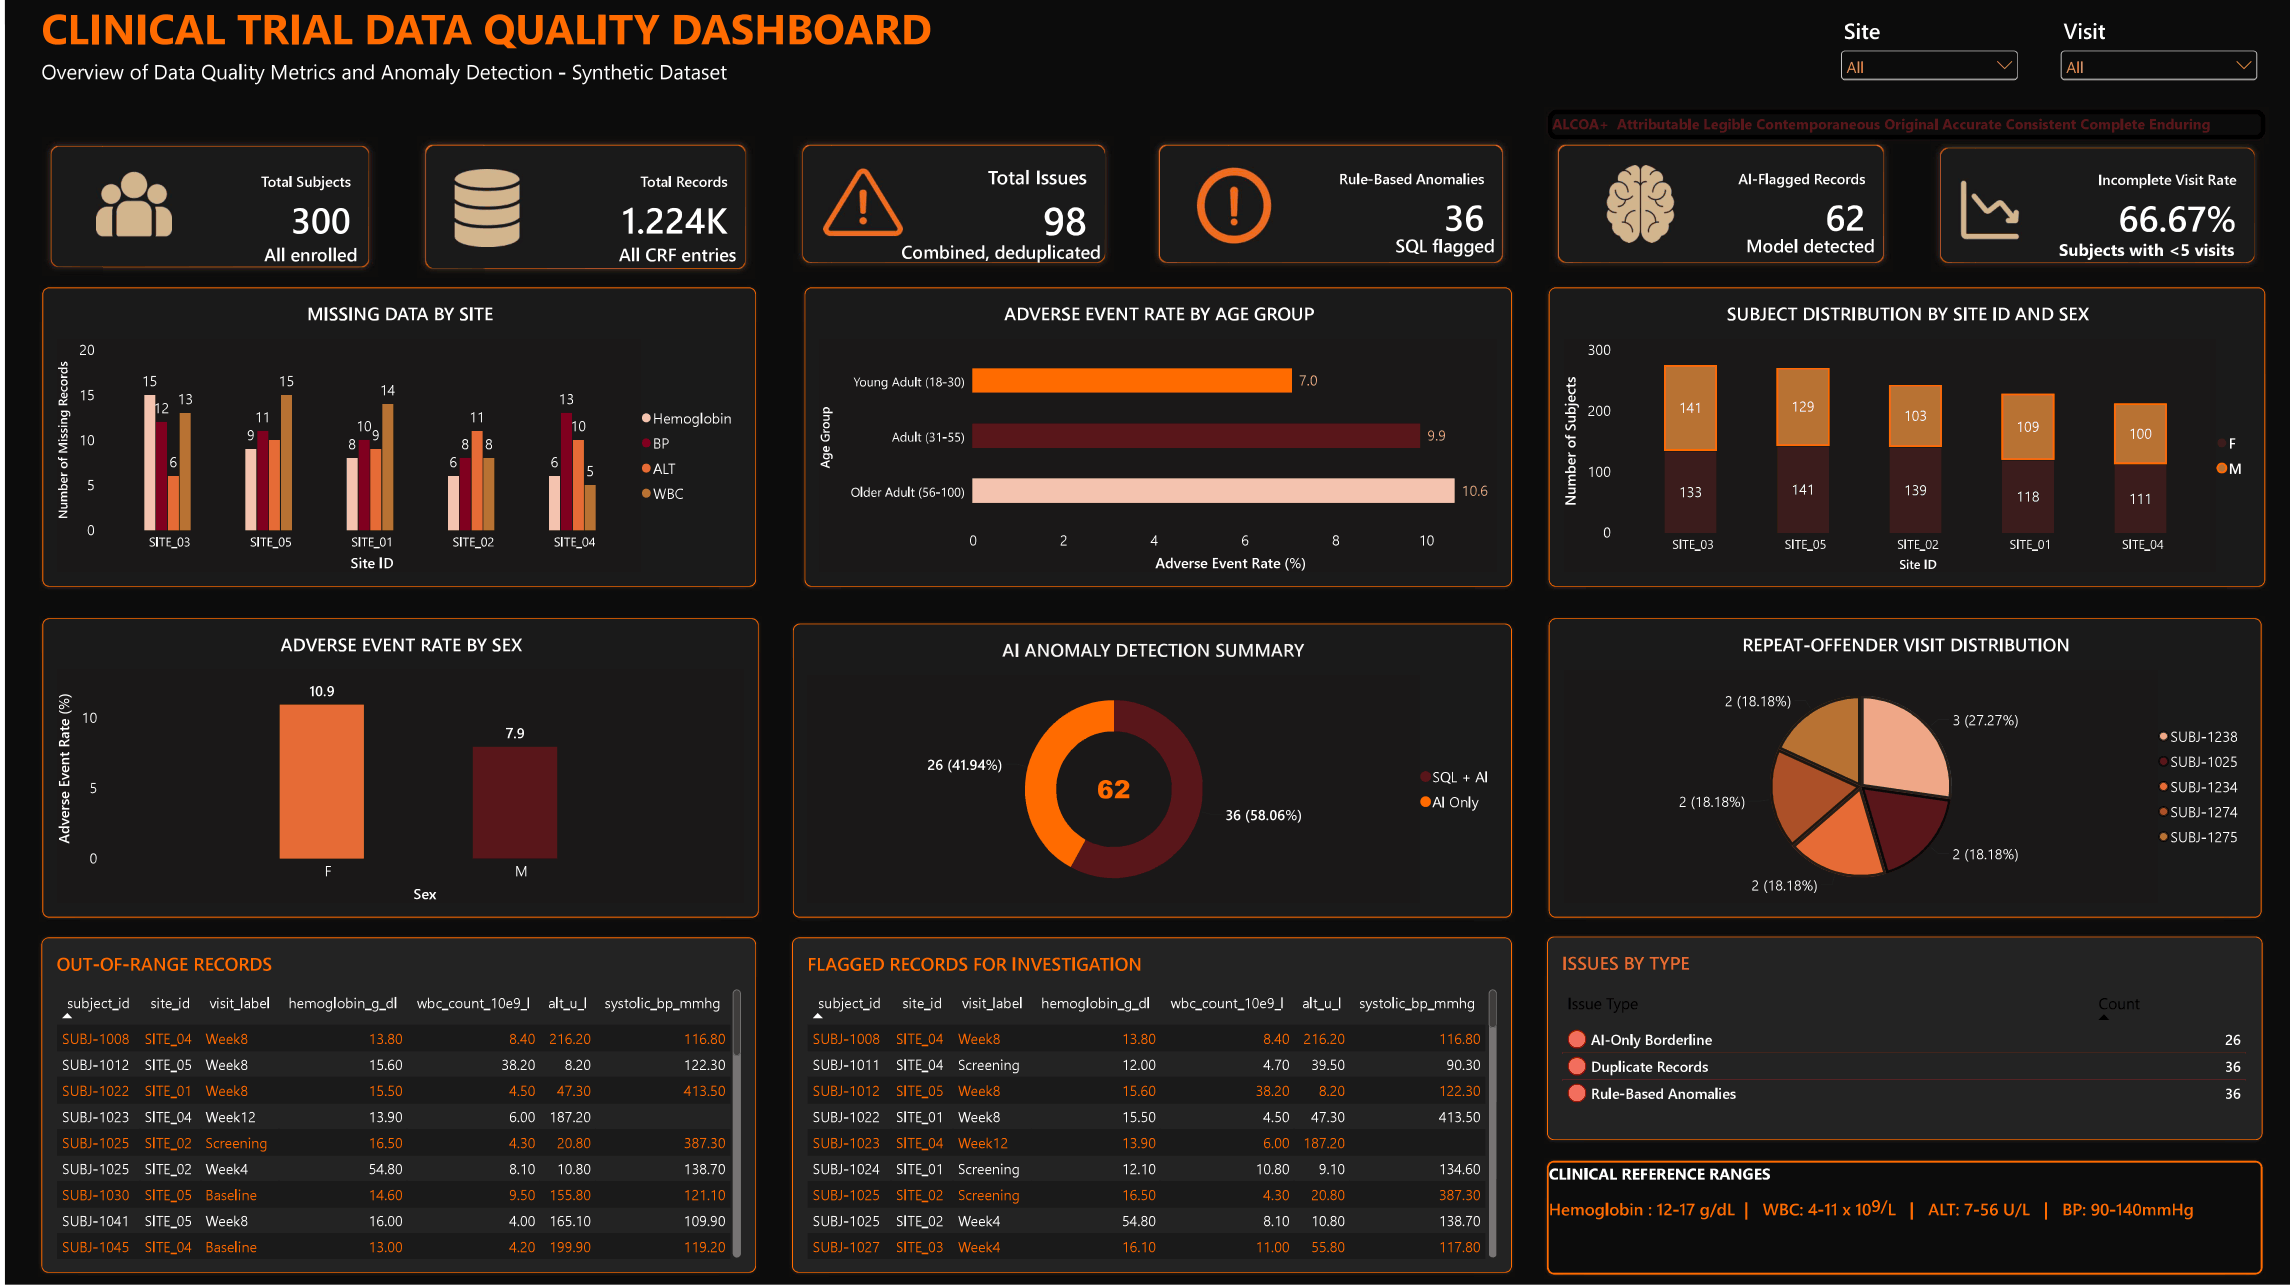

The dashboard page shown, as its layout file describes it:
{"tool":"powerbi","page":{"name":"Page 5","canvas":[2560,1440],"ordinal":5},"visuals":[{"type":"cardVisual","title":"Total S","fields":{"Data":["Count(dashboard_data (2).subject_id)"]},"box":[40,160,376.7,156.7],"z":0},{"type":"textbox","title":"CLINICAL TRIAL DATA QUALITY DASHBOARD","box":[40,6.7,1663.3,96.7],"z":1000},{"type":"image","box":[57.3,194.1,171.8,82.7],"z":2000},{"type":"textbox","box":[56,396,359,188],"z":3000},{"type":"textbox","box":[56,630,359,188],"z":4000},{"type":"cardVisual","title":"Total S","fields":{"Data":["dashboard_data (2).Total Issues"]},"box":[878,159.1,359.5,152.7],"z":5000},{"type":"cardVisual","title":"Total S","fields":{"Data":["CountNonNull(dashboard_data (2).visit_label)"]},"box":[458.1,159.1,378.6,159.1],"z":6000},{"type":"cardVisual","title":"Total S","fields":{"Data":["dashboard_data (2).SQL Flagged Count"]},"box":[1275.7,159.1,404,152.7],"z":7000},{"type":"cardVisual","title":"Total S","fields":{"Data":["dashboard_data (2).Model Flagged Count"]},"box":[1721,159.1,384.9,152.7],"z":8000},{"type":"cardVisual","title":"Total S","fields":{"Data":["dashboard_data (2).Droupout Rate"]},"box":[2147.3,162.2,372.2,149.5],"z":9000},{"type":"image","box":[456.7,196.7,159.1,85.9],"z":10000},{"type":"image","box":[2120,206.7,184.5,70],"z":11000},{"type":"image","box":[890,190,133.3,86.7],"z":12000},{"type":"image","box":[1753.3,193.3,141,84.6],"z":13000},{"type":"clusteredColumnChart","title":"MISSING DATA BY SITE","fields":{"Category":["dashboard_data (2).site_id"],"Y":["dashboard_data (2).Missing Hemoglobin","dashboard_data (2).missing BP","dashboard_data (2).Missing ALT","dashboard_data (2).Missing WBC"]},"box":[41.4,327.7,795.3,334],"z":14000},{"type":"donutChart","title":"AI ANOMALY DETECTION SUMMARY","fields":{"Category":["dashboard_data (2).Detection Type"],"Y":["CountNonNull(dashboard_data (2).Detection Type)"]},"box":[878,703.1,801.7,327.7],"z":15000},{"type":"columnChart","title":"SUBJECT DISTRIBUTION BY SITE ID AND SEX","fields":{"Category":["dashboard_data (2).site_id"],"Series":["dashboard_data (2).sex"],"Y":["CountNonNull(dashboard_data (2).subject_id)"]},"box":[1721,327.7,798.5,334],"z":16000},{"type":"tableEx","title":"OUT-OF-RANGE RECORDS","fields":{"Values":["dashboard_data (2).subject_id","dashboard_data (2).site_id","dashboard_data (2).visit_label","dashboard_data (2).hemoglobin_g_dl","dashboard_data (2).wbc_count_10e9_l","dashboard_data (2).alt_u_l","dashboard_data (2).systolic_bp_mmhg"]},"box":[40,1053.3,796.7,373.3],"z":17000},{"type":"clusteredColumnChart","title":"ADVERSE EVENT RATE BY SEX","fields":{"Category":["dashboard_data (2).sex"],"Y":["dashboard_data (2).Adverse Event Rate"]},"box":[41.4,696.7,798.5,334],"z":18000},{"type":"pieChart","title":"REPEAT-OFFENDER VISIT DISTRIBUTION","fields":{"Category":["dashboard_data (2).subject_id"],"Y":["dashboard_data (2).Flagged Visit Count"]},"box":[1721,696.7,795.3,334],"z":19000},{"type":"clusteredBarChart","title":"ADVERSE EVENT RATE BY AGE GROUP","fields":{"Category":["dashboard_data (2).Age Group"],"Y":["dashboard_data (2).Adverse Event Rate"]},"box":[890.7,327.7,788.9,334],"z":20000},{"type":"image","box":[1326.7,183.3,85.9,108.2],"z":21000},{"type":"slicer","fields":{"Values":["dashboard_data (2).site_id"]},"box":[2042.3,25.4,206.8,85.9],"z":22000},{"type":"slicer","fields":{"Values":["dashboard_data (2).visit_label"]},"box":[2287.3,25.4,229,95.4],"z":23000},{"type":"textbox","box":[1743,0,299,150],"z":24000},{"type":"textbox","title":"All enrolled","box":[264,276.8,152.7,22.3],"z":25000},{"type":"textbox","title":"All CRF entries","box":[684,276.8,152.7,25.4],"z":26000},{"type":"textbox","title":"Combined, deduplicated","box":[998.9,273.6,238.6,38.2],"z":27000},{"type":"textbox","title":"SQL flagged","box":[1550,266.7,130,33.3],"z":28000},{"type":"textbox","title":"Model detected","box":[1940.5,267.2,165.4,22.3],"z":29000},{"type":"tableEx","title":"ISSUES BY TYPE","fields":{"Values":["Issue Types.Issue Type","Issue Types.Issue Count"]},"box":[1719,1052.4,797.6,226.2],"z":30000},{"type":"textbox","title":"CLINICAL REFERENCE RANGES","box":[1719,1302.4,797.6,126.2],"z":31000},{"type":"textbox","box":[1720,130,800,33.3],"z":32000},{"type":"tableEx","title":"FLAGGED RECORDS FOR INVESTIGATION","fields":{"Values":["dashboard_data (2).subject_id","dashboard_data (2).site_id","dashboard_data (2).visit_label","dashboard_data (2).hemoglobin_g_dl","dashboard_data (2).wbc_count_10e9_l","dashboard_data (2).alt_u_l","dashboard_data (2).systolic_bp_mmhg"]},"box":[876.7,1053.3,803.3,373.3],"z":33000},{"type":"textbox","box":[2290,273.3,230,26.7],"z":34000}]}

Visuals, with their boxes in screenshot pixels (x1, y1, x2, y2), scaled from the page's 2560x1440 canvas onto the 2290x1288 screenshot:
"Total S" cardVisual: [36, 143, 373, 283]
"CLINICAL TRIAL DATA QUALITY DASHBOARD" textbox: [36, 6, 1524, 92]
image: [51, 174, 205, 248]
textbox: [50, 354, 371, 522]
textbox: [50, 564, 371, 732]
"Total S" cardVisual: [785, 142, 1107, 279]
"Total S" cardVisual: [410, 142, 748, 285]
"Total S" cardVisual: [1141, 142, 1503, 279]
"Total S" cardVisual: [1539, 142, 1884, 279]
"Total S" cardVisual: [1921, 145, 2254, 279]
image: [409, 176, 551, 253]
image: [1896, 185, 2061, 247]
image: [796, 170, 915, 247]
image: [1568, 173, 1695, 249]
"MISSING DATA BY SITE" clusteredColumnChart: [37, 293, 748, 592]
"AI ANOMALY DETECTION SUMMARY" donutChart: [785, 629, 1503, 922]
"SUBJECT DISTRIBUTION BY SITE ID AND SEX" columnChart: [1539, 293, 2254, 592]
"OUT-OF-RANGE RECORDS" tableEx: [36, 942, 748, 1276]
"ADVERSE EVENT RATE BY SEX" clusteredColumnChart: [37, 623, 751, 922]
"REPEAT-OFFENDER VISIT DISTRIBUTION" pieChart: [1539, 623, 2251, 922]
"ADVERSE EVENT RATE BY AGE GROUP" clusteredBarChart: [797, 293, 1502, 592]
image: [1187, 164, 1264, 261]
slicer - dashboard_data (2).site_id: [1827, 23, 2012, 100]
slicer - dashboard_data (2).visit_label: [2046, 23, 2251, 108]
textbox: [1559, 0, 1827, 134]
"All enrolled" textbox: [236, 248, 373, 268]
"All CRF entries" textbox: [612, 248, 748, 270]
"Combined, deduplicated" textbox: [894, 245, 1107, 279]
"SQL flagged" textbox: [1387, 239, 1503, 268]
"Model detected" textbox: [1736, 239, 1884, 259]
"ISSUES BY TYPE" tableEx: [1538, 941, 2251, 1144]
"CLINICAL REFERENCE RANGES" textbox: [1538, 1165, 2251, 1278]
textbox: [1539, 116, 2254, 146]
"FLAGGED RECORDS FOR INVESTIGATION" tableEx: [784, 942, 1503, 1276]
textbox: [2048, 244, 2254, 268]
